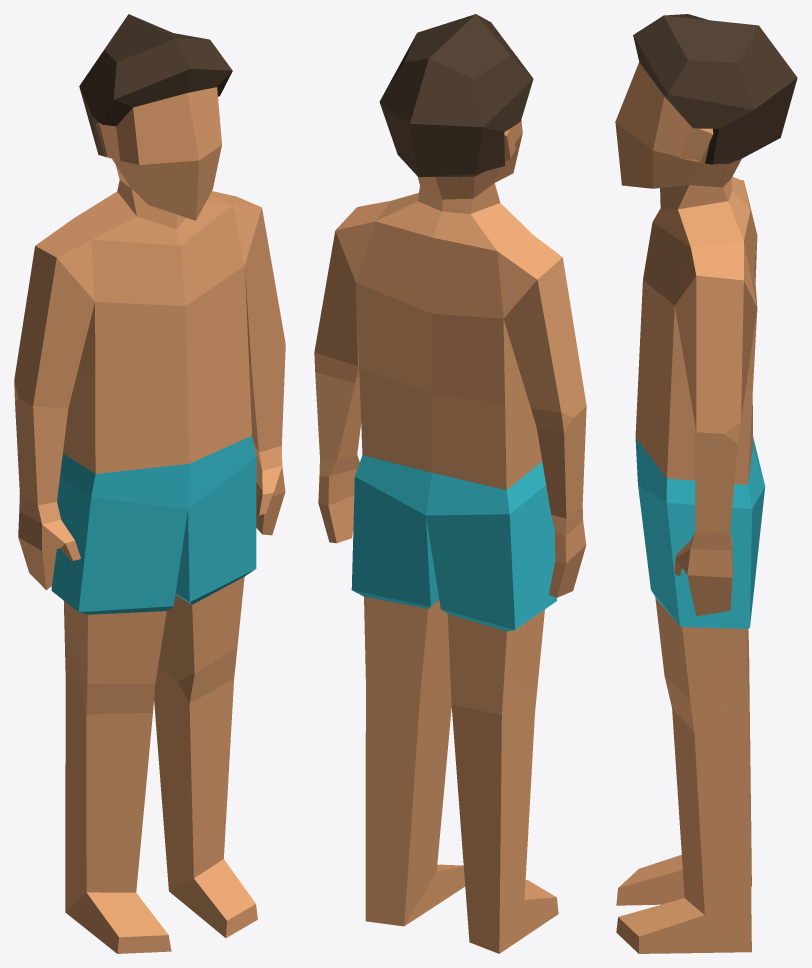
The model's file is people_boy-beach.fbx.
The picture shows the model from 3 angles, left to right: view 1: azimuth 30°, elevation 25°; view 2: azimuth 150°, elevation 25°; view 3: azimuth 270°, elevation 25°; orthographic projection.
Visible parts, largest first — view 1: people_boy_beach; view 2: people_boy_beach; view 3: people_boy_beach.
Part boxes in pixels (bbox=[...]): people_boy_beach: bbox=[14, 14, 285, 953]; people_boy_beach: bbox=[314, 14, 586, 953]; people_boy_beach: bbox=[615, 14, 797, 953].
Bounding box in the file's own units: 60.01 × 200 × 36.54.
